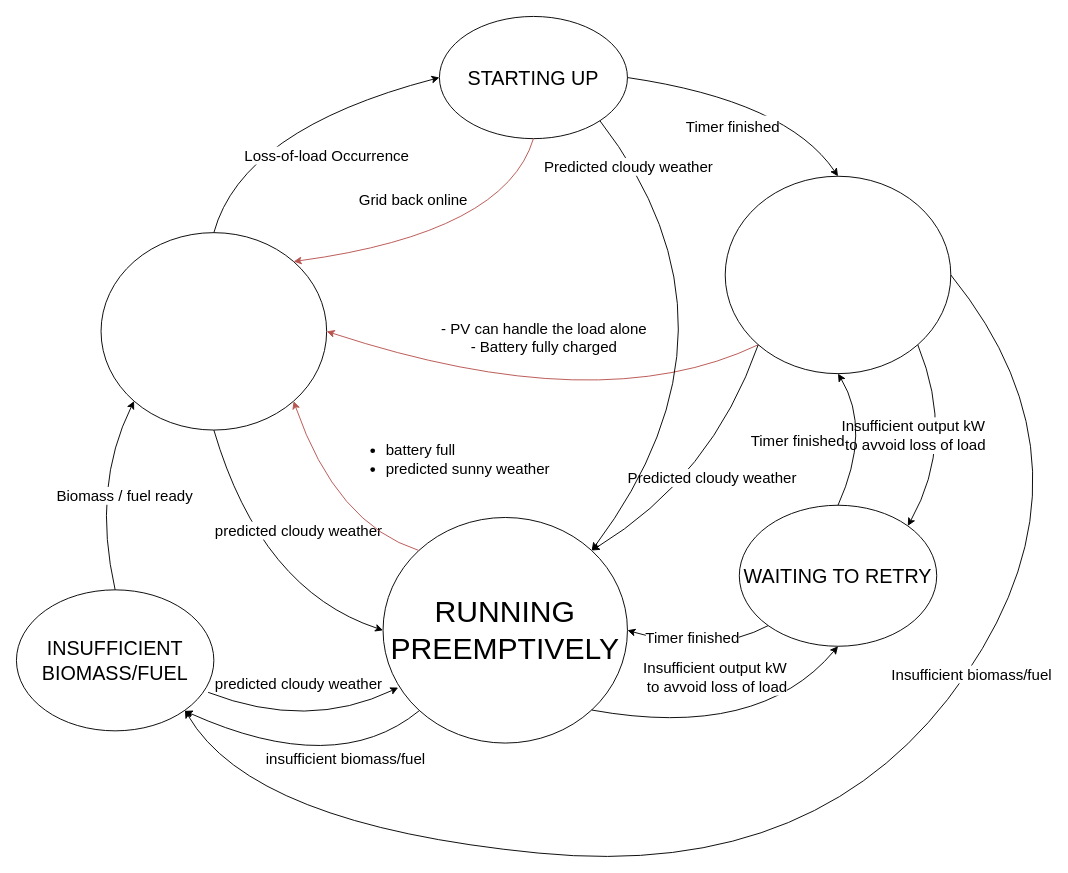
This 1068x873 diagram has some shape labels left out. The shapes that lost their labels are listed below. From the top down, each one's centre as x and y in pixels, then its label:
At (x=837, y=274): "RUNNING".
At (x=213, y=331): "IDLE".
